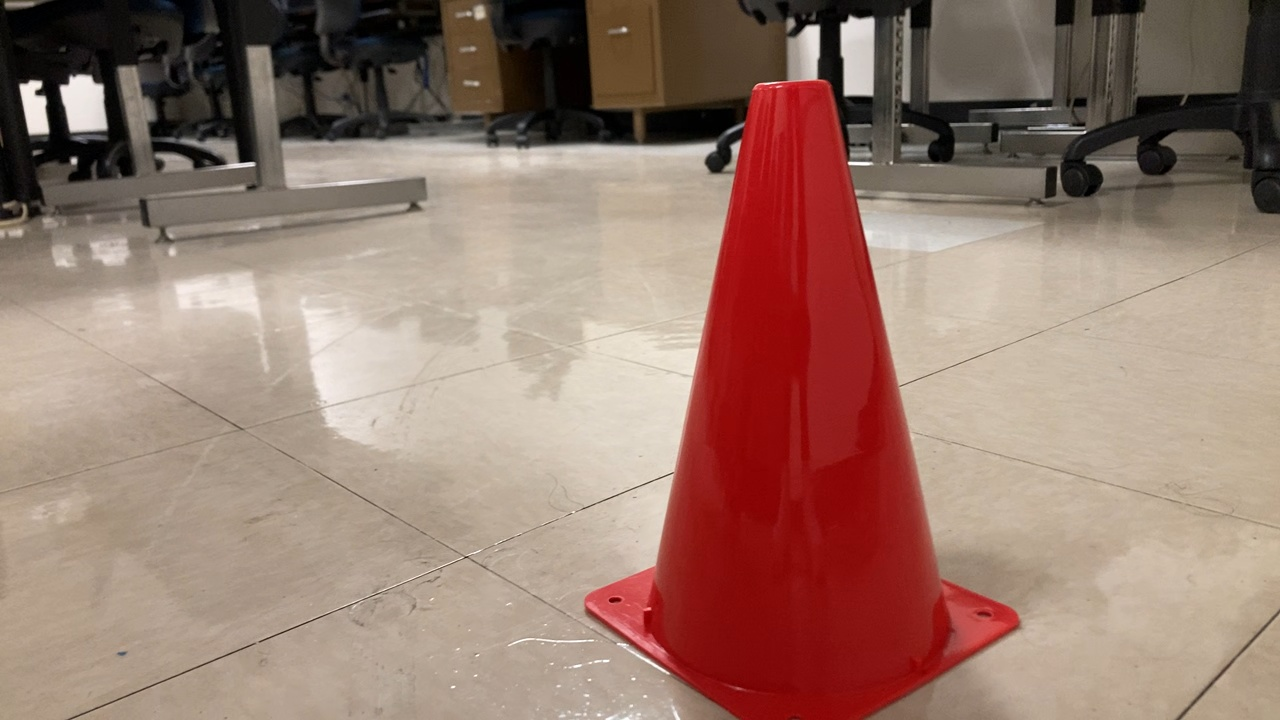red_cone: (569, 71, 1040, 720)
